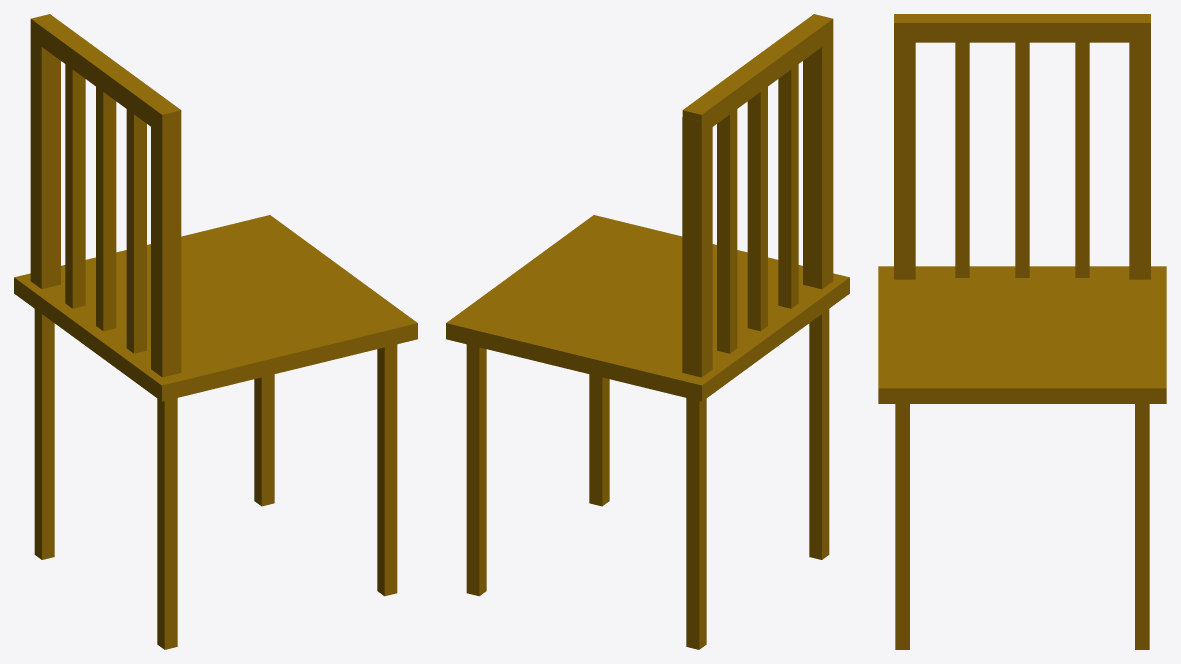
File: chair.glb
3 renders of one model, left to right at view 1: azimuth 30°, elevation 25°; view 2: azimuth 150°, elevation 25°; view 3: azimuth 270°, elevation 25°, orthographic. The views are drawn at different scales.
Visible parts, largest first — view 1: Cube, Cube.005, Cube.006, Cube.007, Cube.003, Cube.001, Cube.004, Cube.009, Cube.010, Cube.008, Cube.002; view 2: Cube, Cube.006, Cube.005, Cube.004, Cube.002, Cube.007, Cube.003, Cube.010, Cube.009, Cube.008, Cube.001; view 3: Cube, Cube.007, Cube.005, Cube.006, Cube.001, Cube.002, Cube.008, Cube.009, Cube.010.
Boxes of the visible parts, bbox=[...] form: Cube: bbox=[14, 215, 417, 401]; Cube.005: bbox=[151, 114, 181, 377]; Cube.006: bbox=[30, 26, 60, 288]; Cube.007: bbox=[30, 14, 181, 134]; Cube.003: bbox=[157, 398, 177, 649]; Cube.001: bbox=[377, 344, 397, 596]; Cube.004: bbox=[34, 309, 54, 559]; Cube.009: bbox=[126, 109, 146, 353]; Cube.010: bbox=[65, 64, 85, 308]; Cube.008: bbox=[96, 87, 116, 331]; Cube.002: bbox=[254, 374, 274, 506]; Cube: bbox=[446, 215, 849, 401]; Cube.006: bbox=[682, 114, 712, 377]; Cube.005: bbox=[803, 26, 833, 289]; Cube.004: bbox=[686, 398, 706, 649]; Cube.002: bbox=[466, 344, 486, 596]; Cube.007: bbox=[682, 14, 833, 134]; Cube.003: bbox=[809, 309, 829, 559]; Cube.010: bbox=[717, 109, 737, 353]; Cube.009: bbox=[778, 64, 798, 308]; Cube.008: bbox=[747, 87, 767, 331]; Cube.001: bbox=[589, 374, 609, 506]; Cube: bbox=[878, 266, 1166, 403]; Cube.007: bbox=[894, 14, 1150, 42]; Cube.005: bbox=[894, 29, 915, 279]; Cube.006: bbox=[1129, 29, 1150, 279]; Cube.001: bbox=[895, 404, 909, 649]; Cube.002: bbox=[1135, 404, 1149, 649]; Cube.008: bbox=[1015, 42, 1029, 277]; Cube.009: bbox=[955, 42, 969, 277]; Cube.010: bbox=[1075, 42, 1089, 277].
Bounding box in the file's own units: 2 × 4 × 2.
